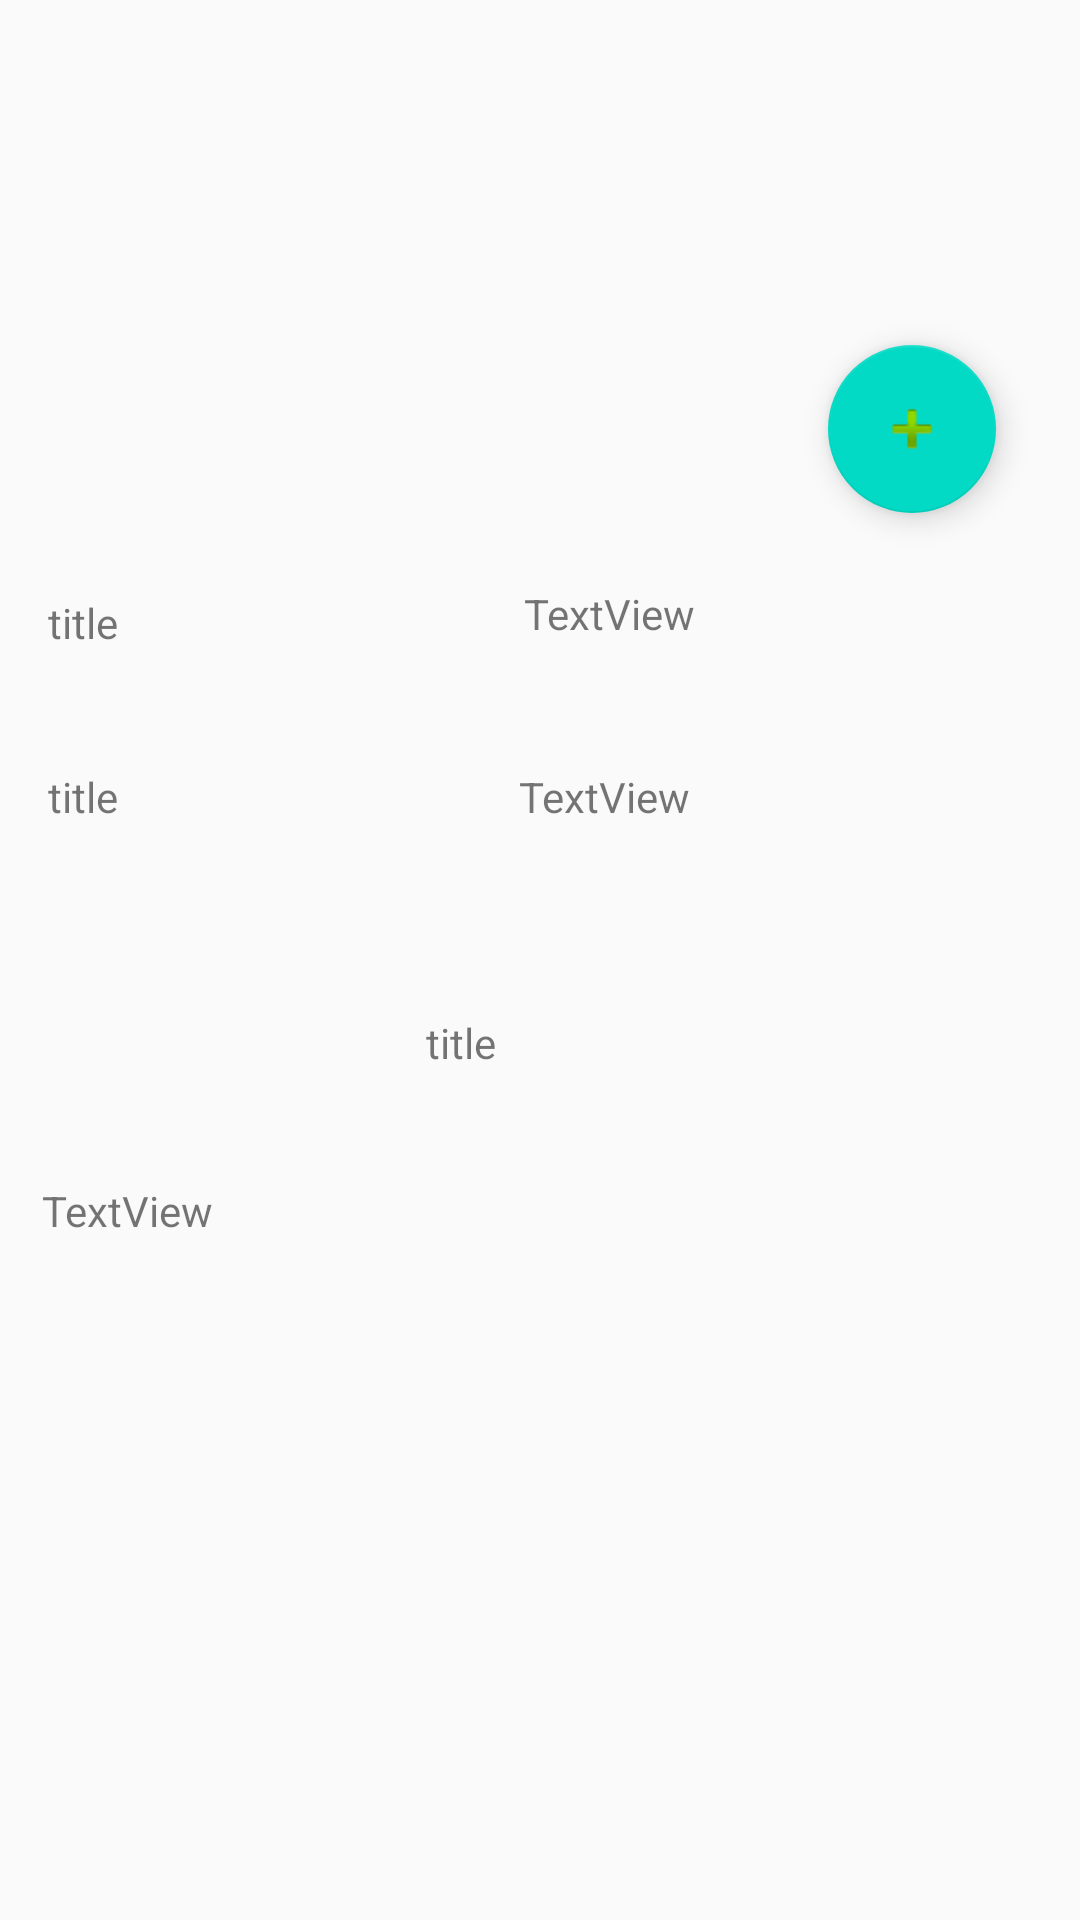

Point at icon controls on the screen. Image size 1080px x 1920px, points as point (x, y).
add: point (912, 429)
